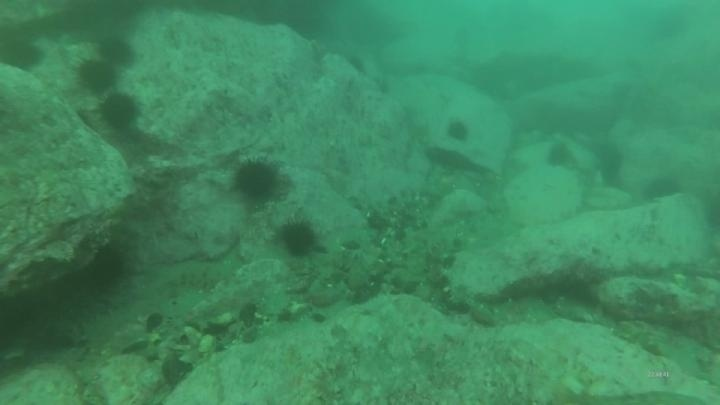echinus: (231, 155, 284, 204), (86, 243, 128, 292), (277, 217, 320, 259), (97, 91, 140, 132), (0, 34, 44, 74), (75, 57, 118, 95), (95, 34, 137, 69), (592, 141, 626, 183), (641, 174, 683, 205), (543, 141, 575, 172), (444, 118, 472, 145)
holothurian: (435, 237, 473, 313), (481, 296, 559, 329), (160, 263, 229, 294)
